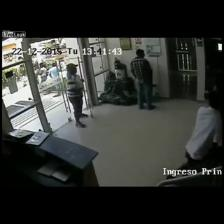person: (177, 91, 221, 170), (131, 49, 155, 109), (67, 63, 88, 127), (40, 63, 47, 83), (49, 63, 58, 78)
